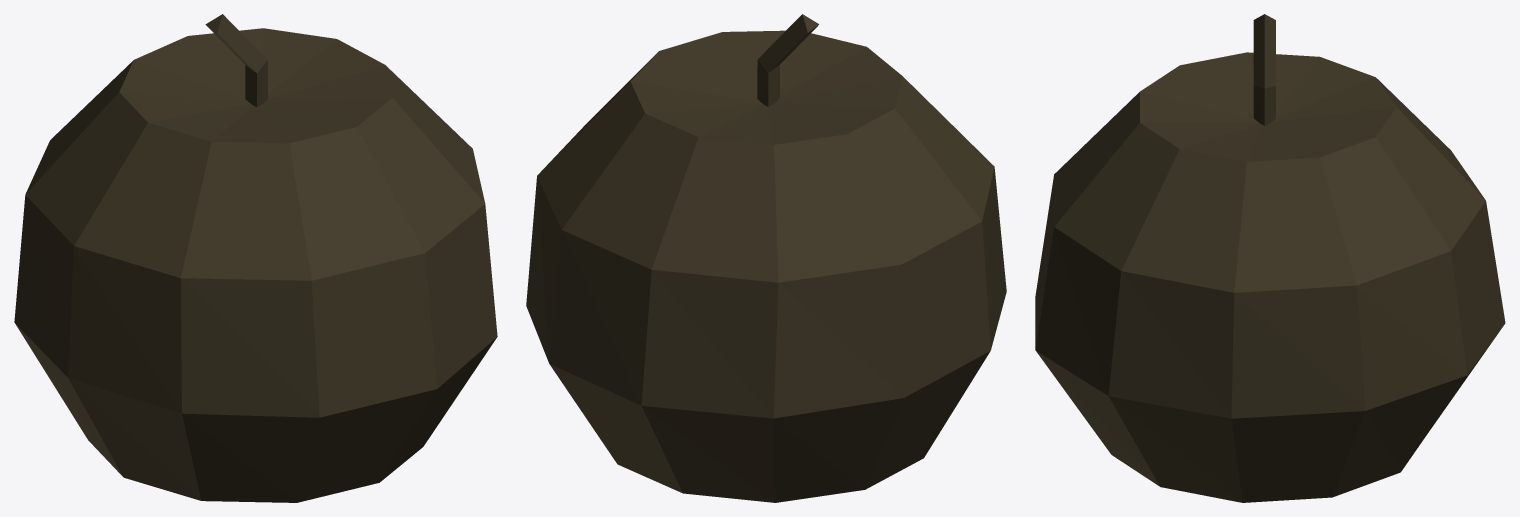
The model's file is ITFO_APPLE_01.OBJ.
The picture shows the model from 3 angles, left to right: view 1: azimuth 30°, elevation 25°; view 2: azimuth 150°, elevation 25°; view 3: azimuth 270°, elevation 25°; orthographic projection. The views are drawn at different scales.
Parts seen in each view (by area): view 1: ITFO_APPLE_01; view 2: ITFO_APPLE_01; view 3: ITFO_APPLE_01.
Part boxes in pixels (x1,y1,x2,y2): ITFO_APPLE_01: (14,14,497,502); ITFO_APPLE_01: (526,14,1006,502); ITFO_APPLE_01: (1035,14,1505,502).
Size of the model in its own units: 0.1232 by 0.1348 by 0.128.
